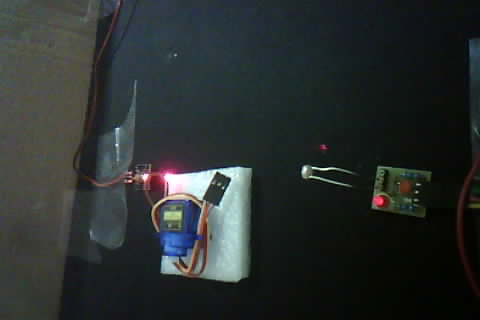motor: (133, 155, 246, 284)
